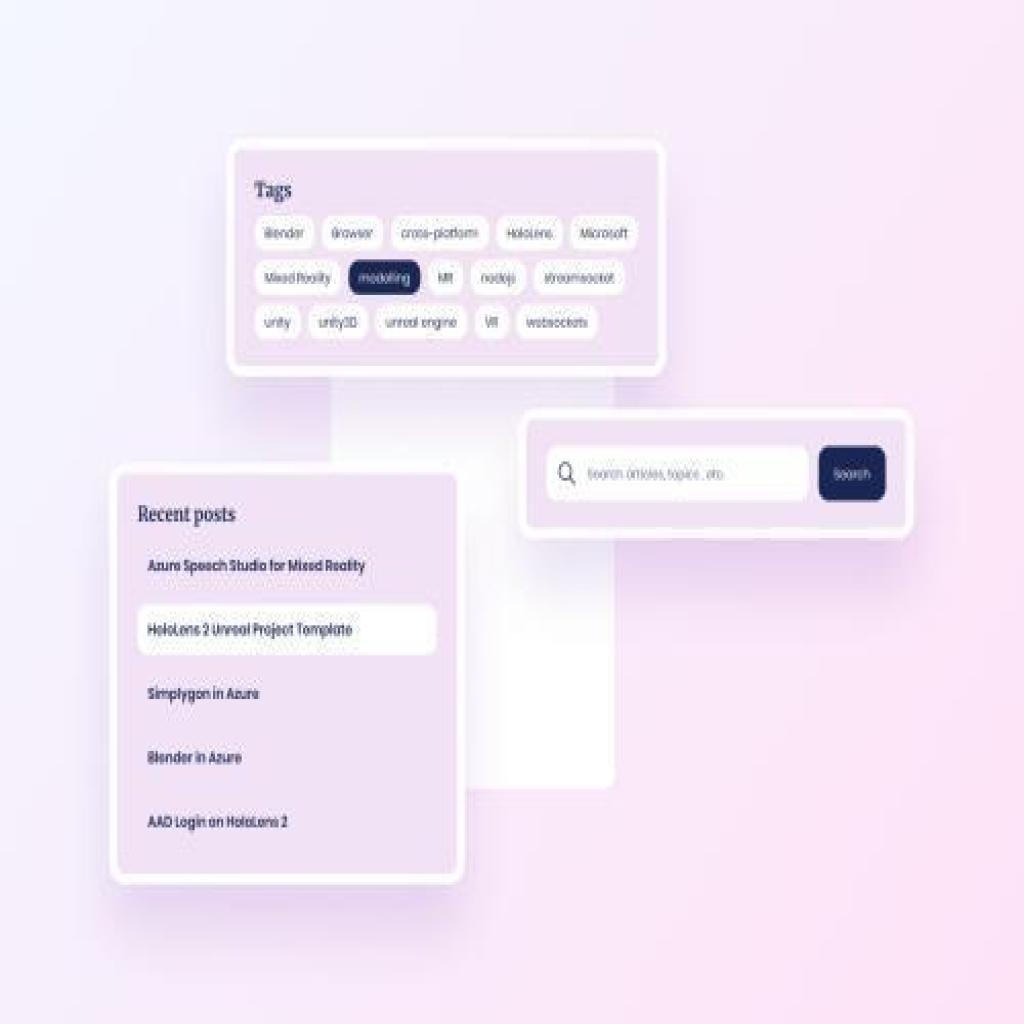button: (137, 604, 436, 652), (817, 445, 889, 505), (532, 257, 626, 295), (389, 216, 488, 251), (516, 303, 598, 339), (377, 306, 467, 338), (254, 260, 342, 292), (496, 213, 563, 254), (350, 257, 422, 295), (571, 216, 639, 254), (324, 210, 385, 251), (469, 256, 524, 298), (309, 300, 369, 338), (256, 216, 313, 248), (254, 303, 301, 336), (428, 257, 463, 295), (475, 300, 510, 338)
input: (543, 445, 811, 505)
label: (148, 557, 368, 576), (133, 497, 240, 527), (145, 814, 291, 833), (150, 682, 262, 704), (143, 746, 244, 768), (248, 175, 297, 205)
